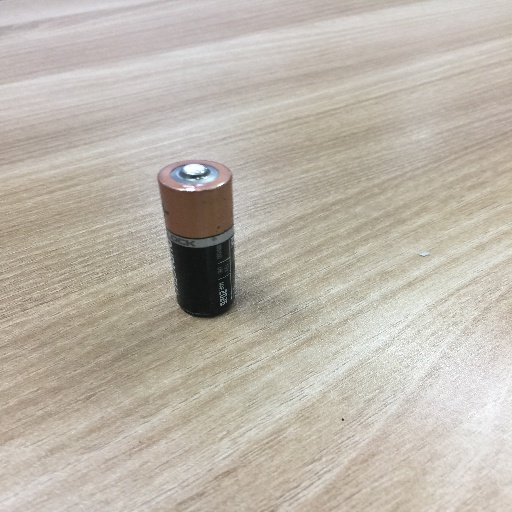Battery_0: (148, 145, 256, 339)
